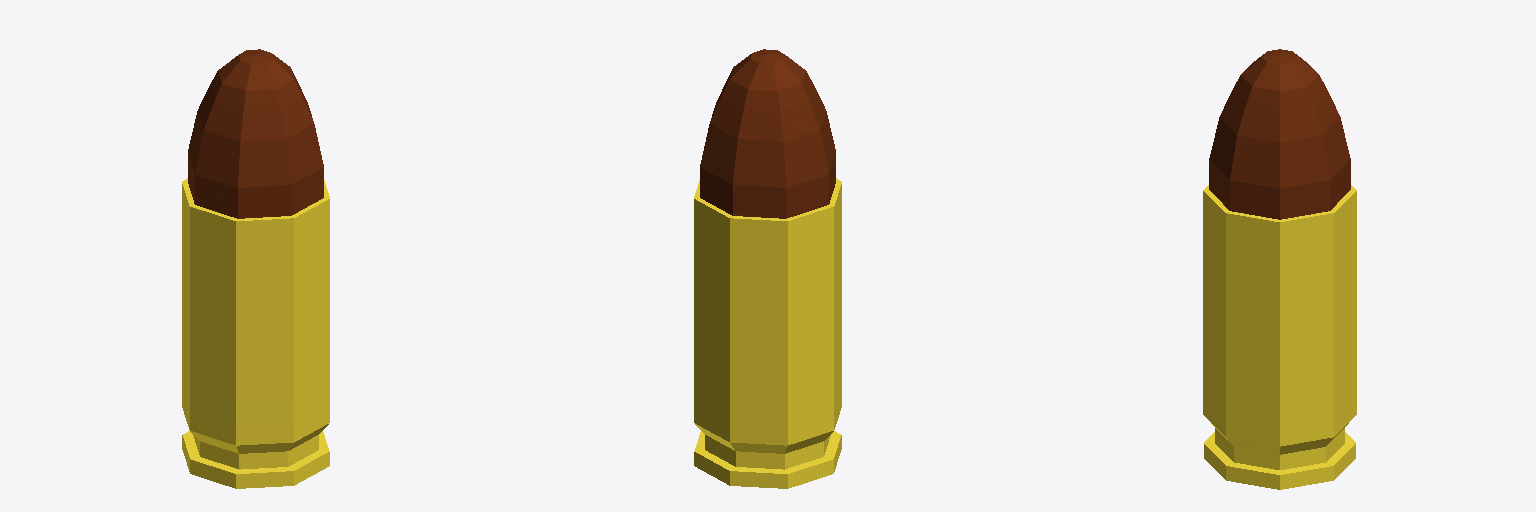
3 views of the same model, side by side, from view 1: azimuth 30°, elevation 25°; view 2: azimuth 150°, elevation 25°; view 3: azimuth 270°, elevation 25° (orthographic).
Parts seen in each view (by area): view 1: Cylinder.001; view 2: Cylinder.001; view 3: Cylinder.001.
Boxes of the visible parts, box(x1,y1,x2,y2) form: Cylinder.001: box(182, 49, 329, 488); Cylinder.001: box(694, 49, 841, 488); Cylinder.001: box(1203, 49, 1356, 489).
Bounding box in the file's own units: 0.9981 × 2.9 × 1.
Materials: 1 (1 with a texture image).